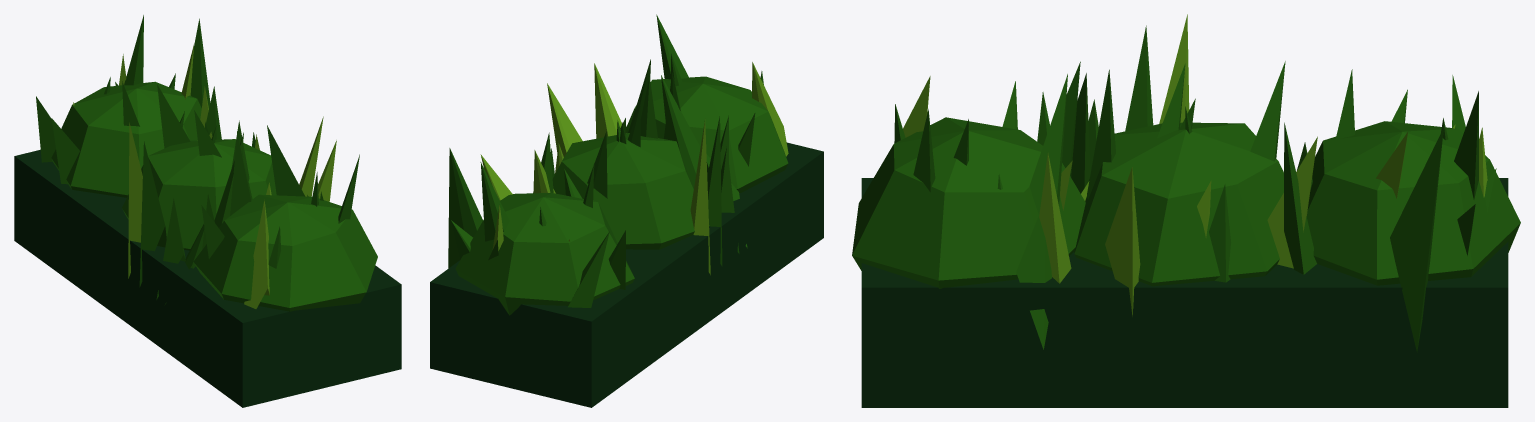
Rendered from edge_hedge_long.gltf.
3 views of the same model, side by side, from view 1: azimuth 30°, elevation 25°; view 2: azimuth 150°, elevation 25°; view 3: azimuth 270°, elevation 25° (orthographic). The views are drawn at different scales.
Visible parts, largest first — view 1: edge_hedge_long; view 2: edge_hedge_long; view 3: edge_hedge_long.
Part boxes in pixels (x1,y1,x2,y2): edge_hedge_long: (14,15,401,407); edge_hedge_long: (430,14,823,407); edge_hedge_long: (852,14,1520,407).
Bounding box in the file's own units: 1.06 × 1.17 × 2.42.
